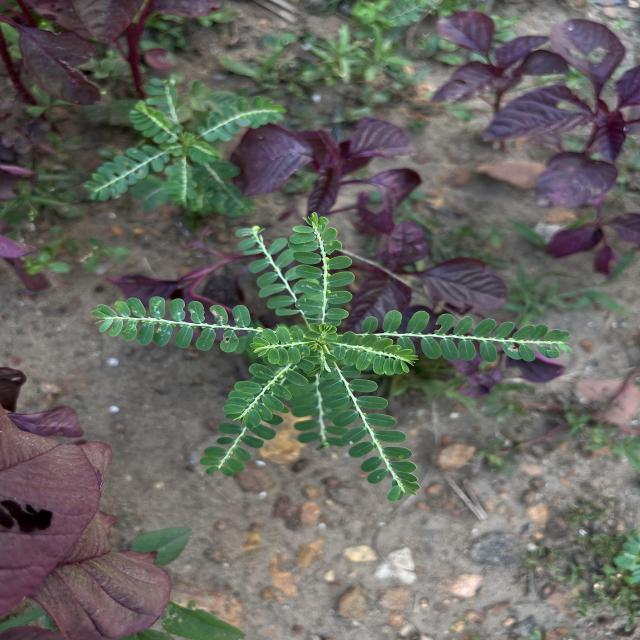Phyllanthus niruri: (319, 355, 424, 502), (360, 308, 576, 366), (88, 293, 250, 353), (288, 209, 355, 328), (214, 351, 316, 428), (236, 218, 304, 314), (324, 329, 422, 376), (252, 324, 319, 364)
